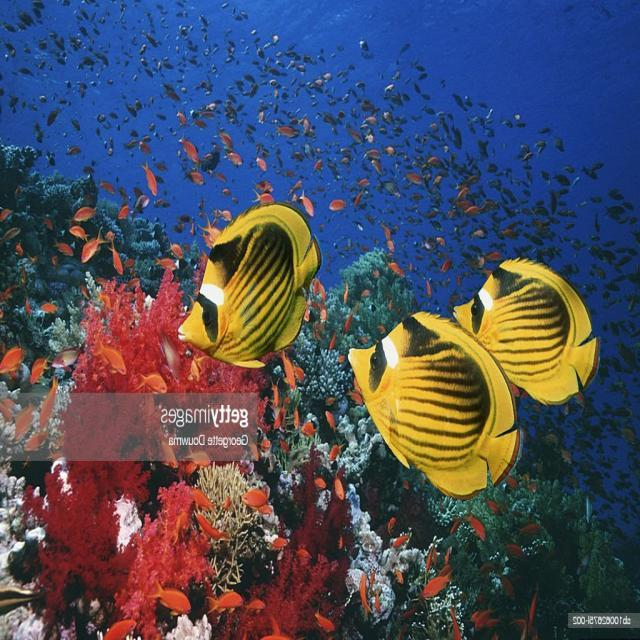ButterflyFish: (147, 194, 370, 380), (334, 322, 538, 484), (461, 234, 607, 400)
